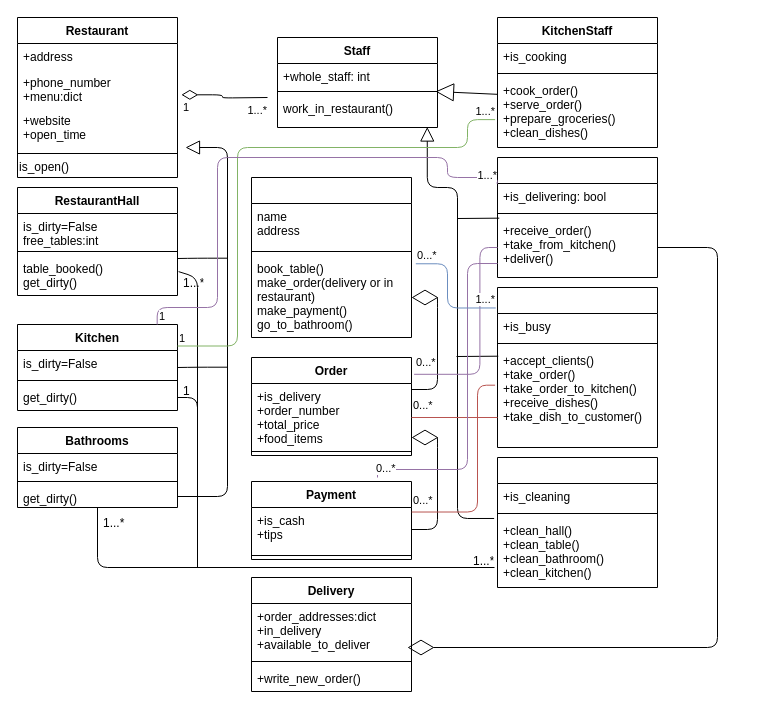
Image size: 761x712. Some labels were removed from this diagram. Here are the shapes that lost their labels. From the top down, the box of each, then its label:
(496, 156, 658, 278): DeliveryStaff
(250, 176, 412, 338): Customer
(496, 286, 658, 448): RestaurantHallStaff
(496, 456, 658, 588): CleaningStaff
